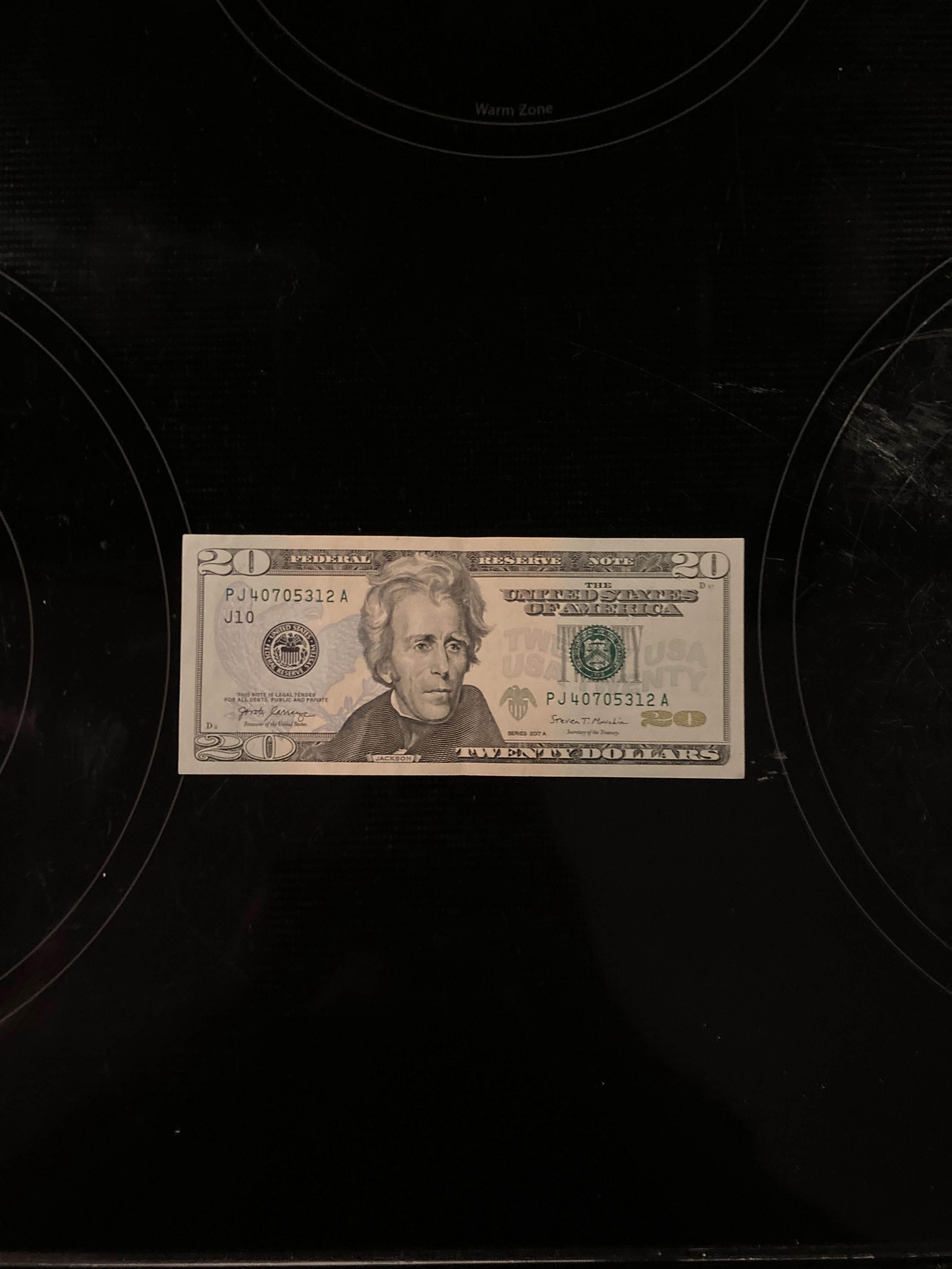twenty-front: (177, 533, 747, 779)
